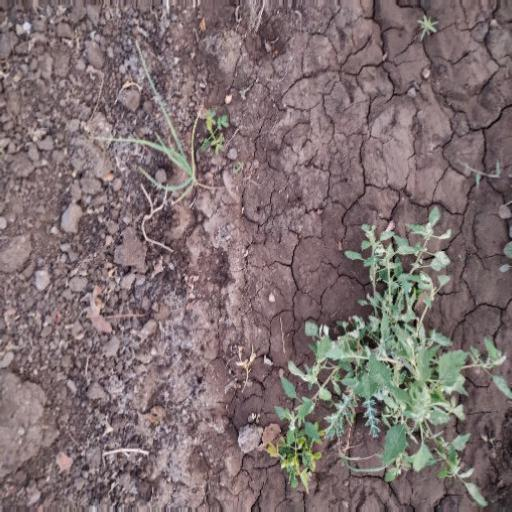weed: (273, 226, 508, 482), (60, 43, 256, 227)
